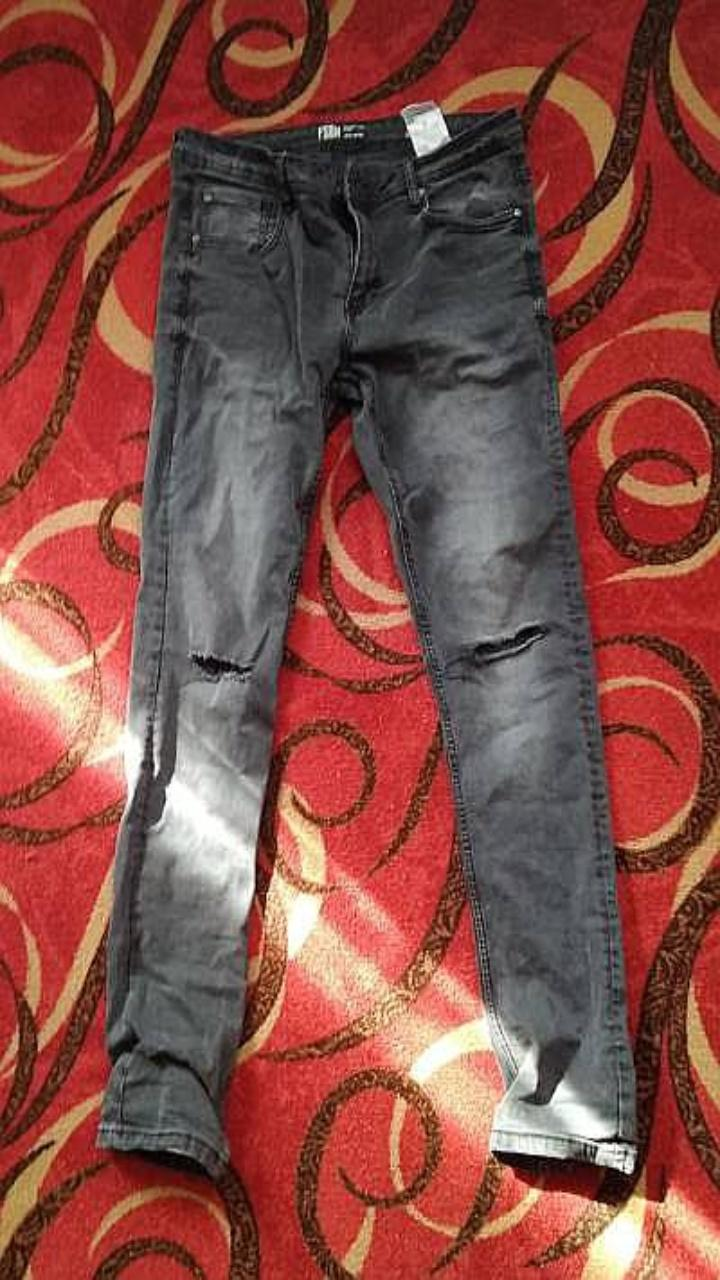Jeans: (97, 108, 635, 1177)
